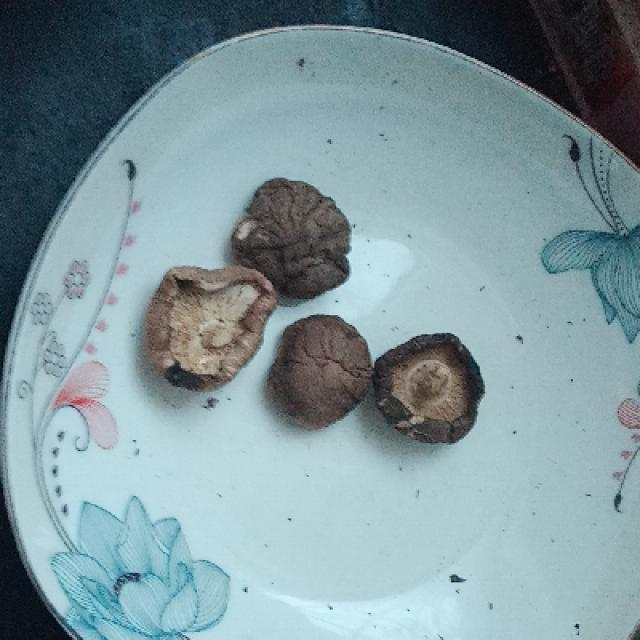Lentinus edodes: (149, 266, 277, 389), (236, 176, 352, 297), (377, 335, 486, 440), (272, 315, 371, 425)
